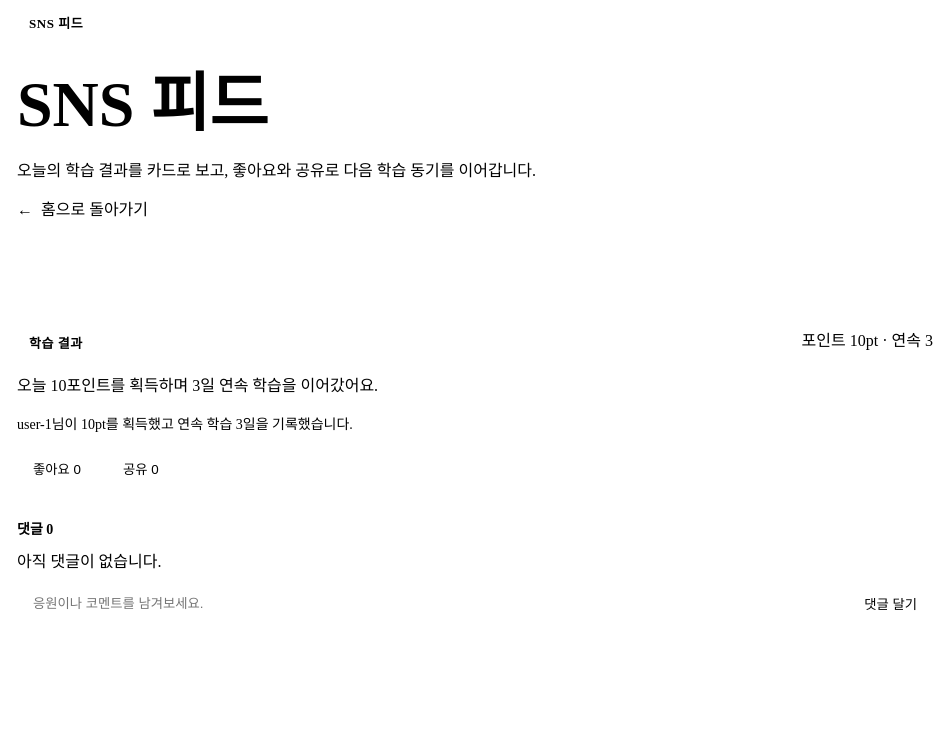
feed ui › toggles the like state
Click the button with aria-label "좋아요 post-like": point(57, 468) [17, 447, 97, 490]
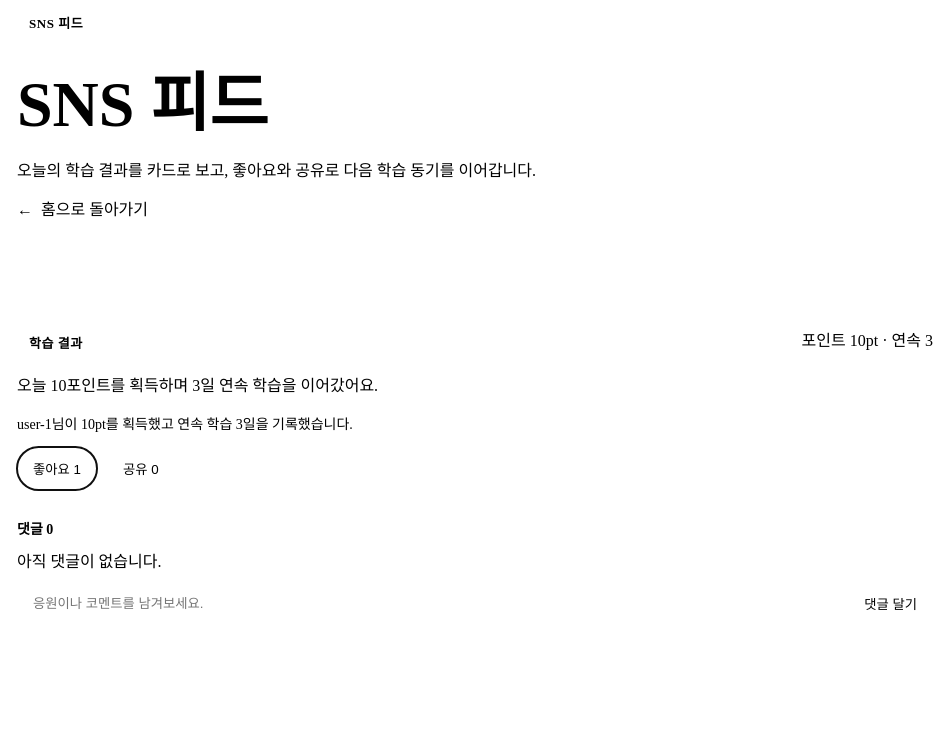
Result: the button with aria-label "좋아요 post-like" shows "1" at [17, 447, 97, 490]
